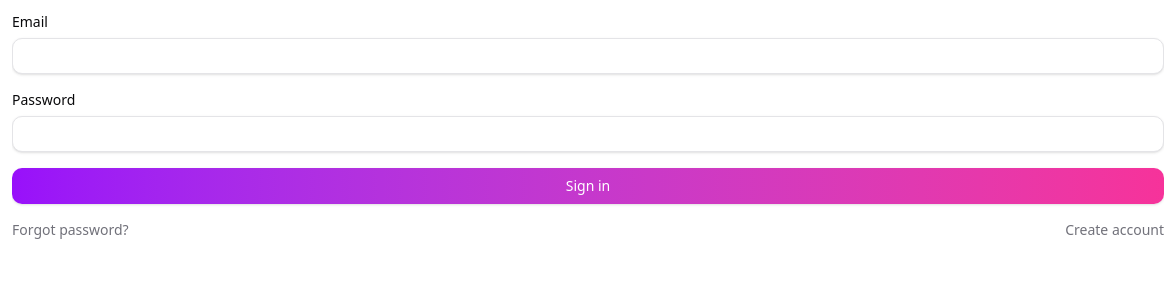
Test: LoginForm › shows the backend error message when login fails
This screenshot has width=1176, height=292.
In the field labelled "Email": (588, 56) [12,38,1164,74], type "test@example.com"
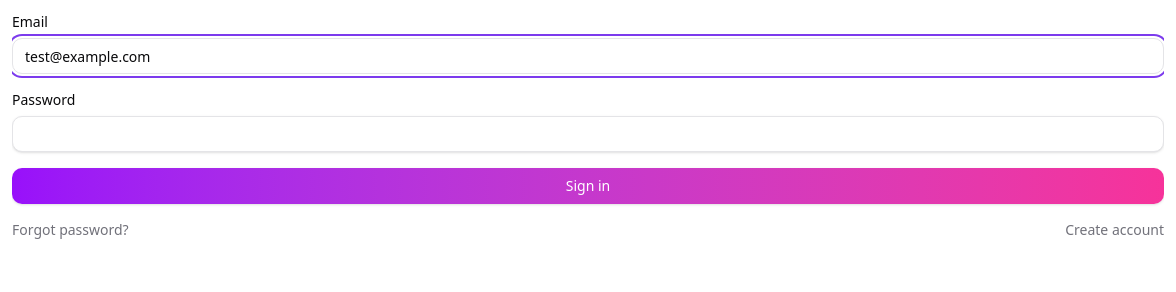
In the password field labelled "Password": (588, 134) [12,116,1164,152], type "wrong-password"
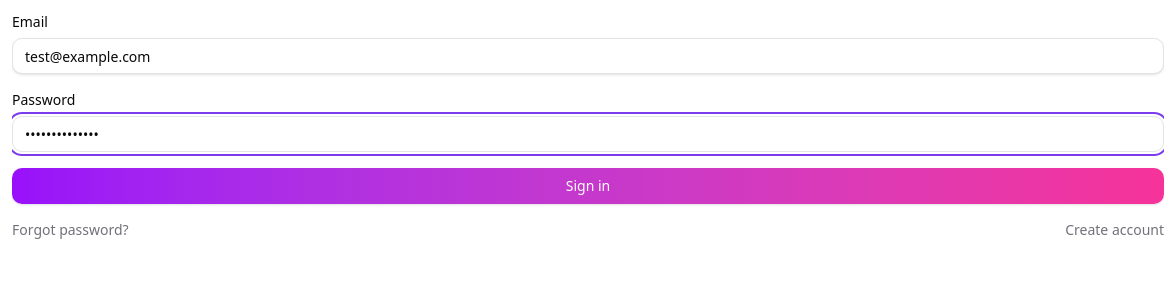
Click the button "Sign in": (588, 186) [12,168,1164,204]
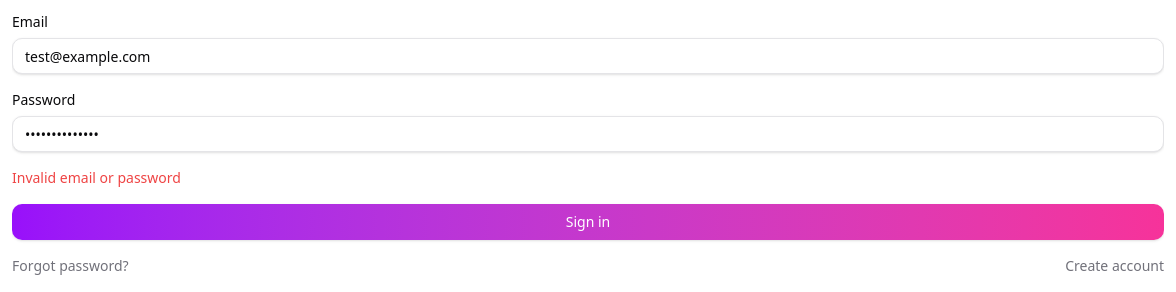
expect the text "Invalid email or password" is shown: met, box [12,168,181,187]
